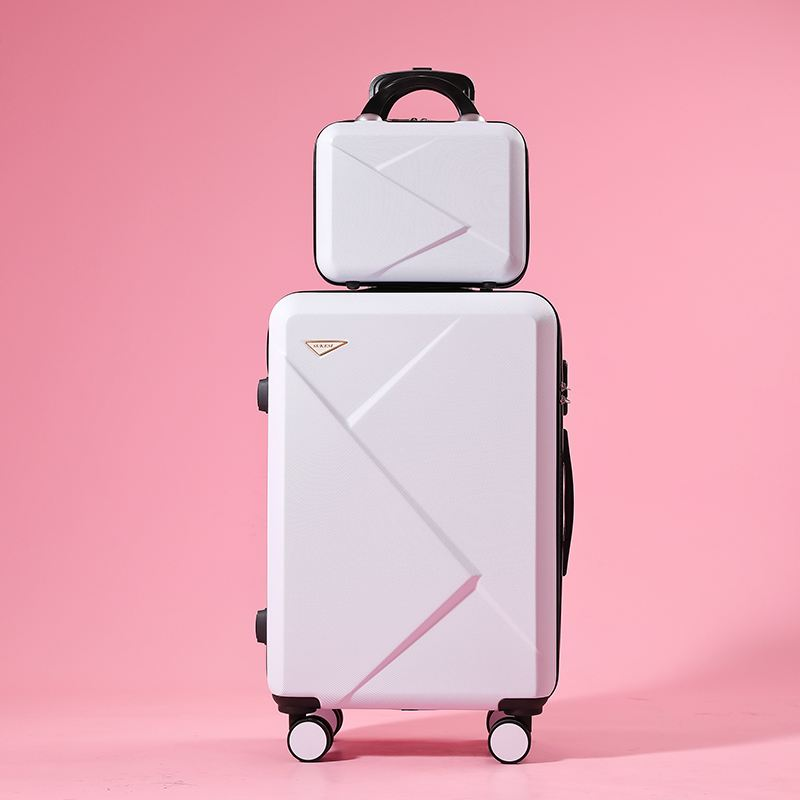box: (267, 291, 563, 710)
handle: (561, 426, 575, 575)
wheel: (286, 715, 333, 762), (489, 718, 533, 763)
